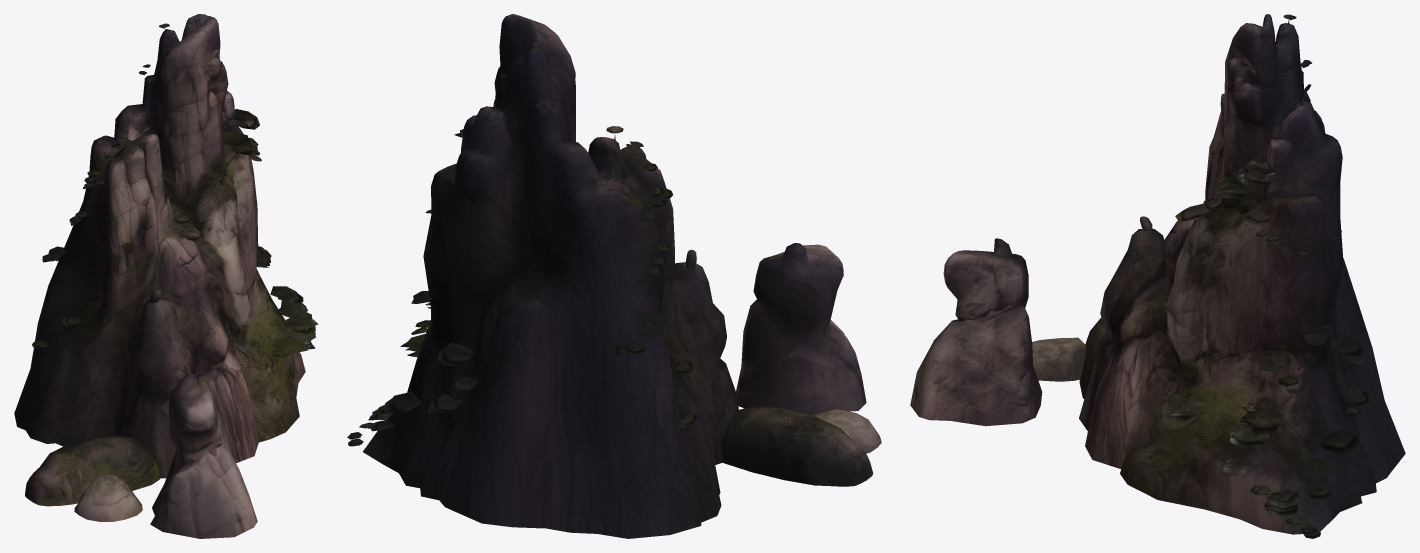
The model's file is rocky+mountain+3d+model.fbx.
3 views of the same model, side by side, from view 1: azimuth 30°, elevation 25°; view 2: azimuth 150°, elevation 25°; view 3: azimuth 270°, elevation 25° (orthographic). The views are drawn at different scales.
Visible parts, largest first — view 1: d0fc43ba_a43e_490e_8b64_c290c0c2c52f; view 2: d0fc43ba_a43e_490e_8b64_c290c0c2c52f; view 3: d0fc43ba_a43e_490e_8b64_c290c0c2c52f.
Part boxes in pixels (<box>): d0fc43ba_a43e_490e_8b64_c290c0c2c52f: <box>14,14,318,538</box>; d0fc43ba_a43e_490e_8b64_c290c0c2c52f: <box>347,14,881,538</box>; d0fc43ba_a43e_490e_8b64_c290c0c2c52f: <box>910,14,1405,538</box>.
Bounding box in the file's own units: 0.9819 × 0.9995 × 0.9858.
